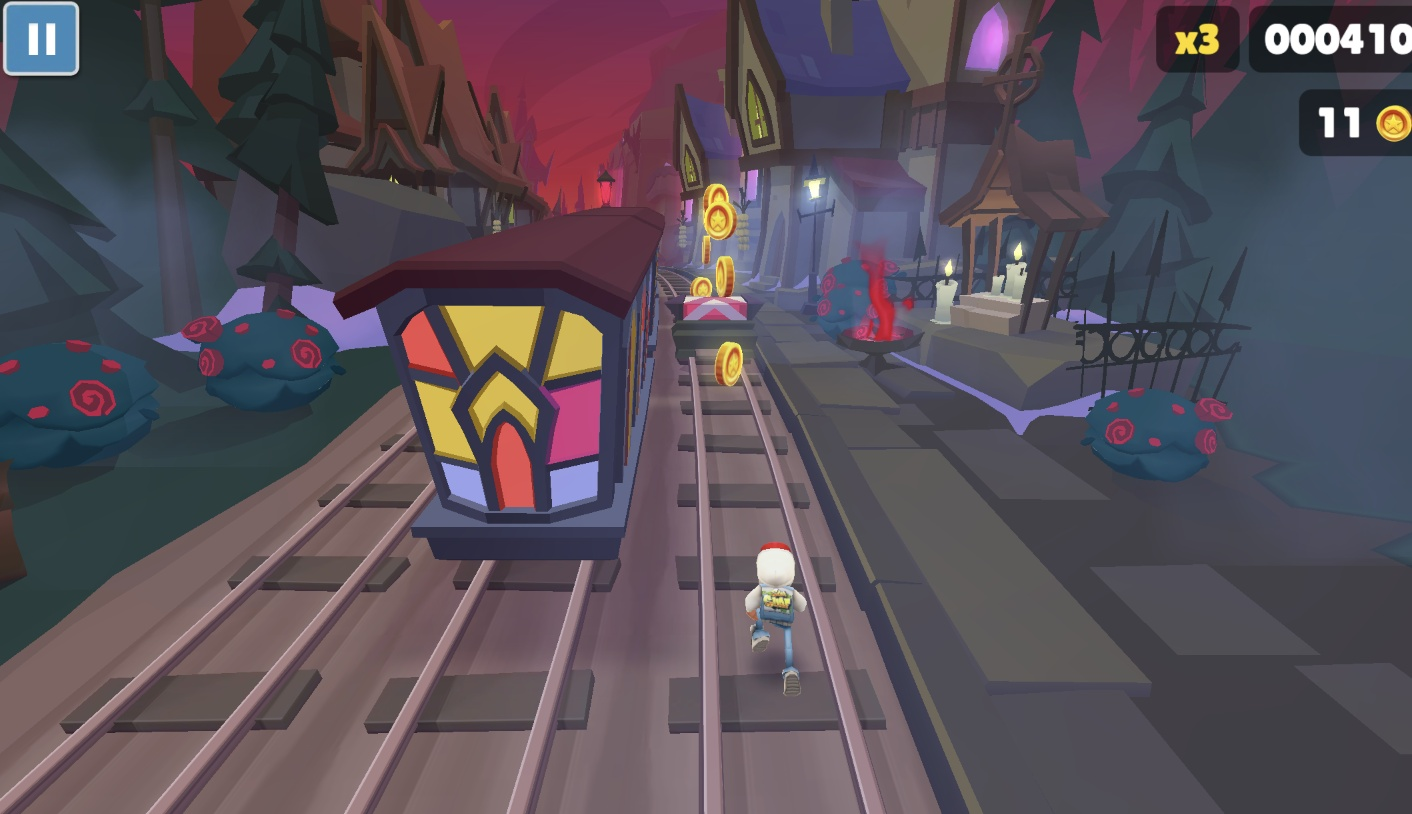ground_barrier: (668, 299, 763, 366)
train: (325, 207, 672, 590)
